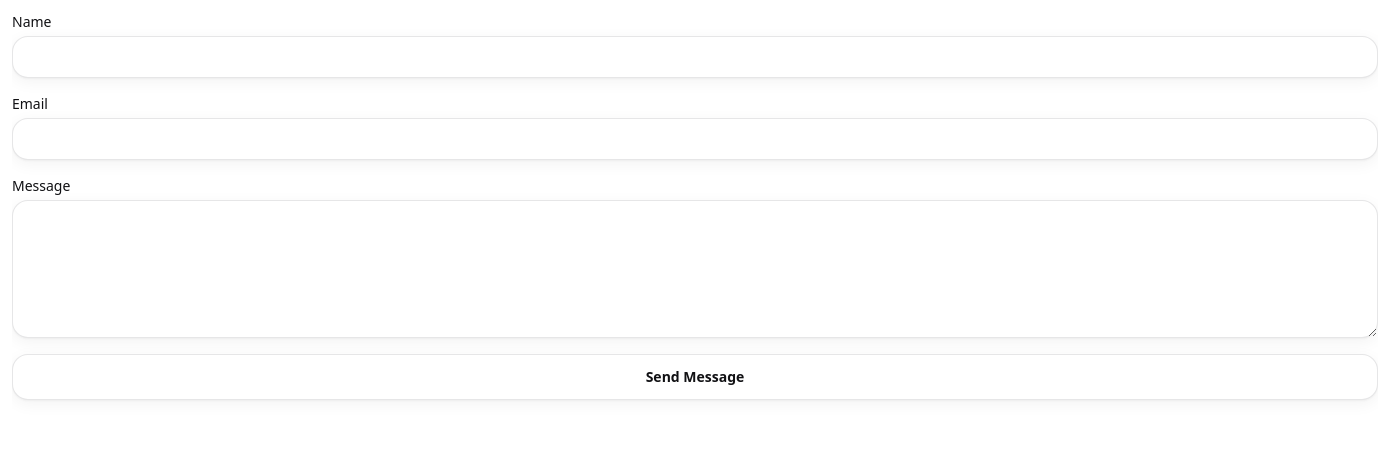
it: ContactForm › shows an error message when submission fails
The image size is (1390, 452).
In the field labelled "Name": (695, 57) [12,36,1378,78], type "Jane"
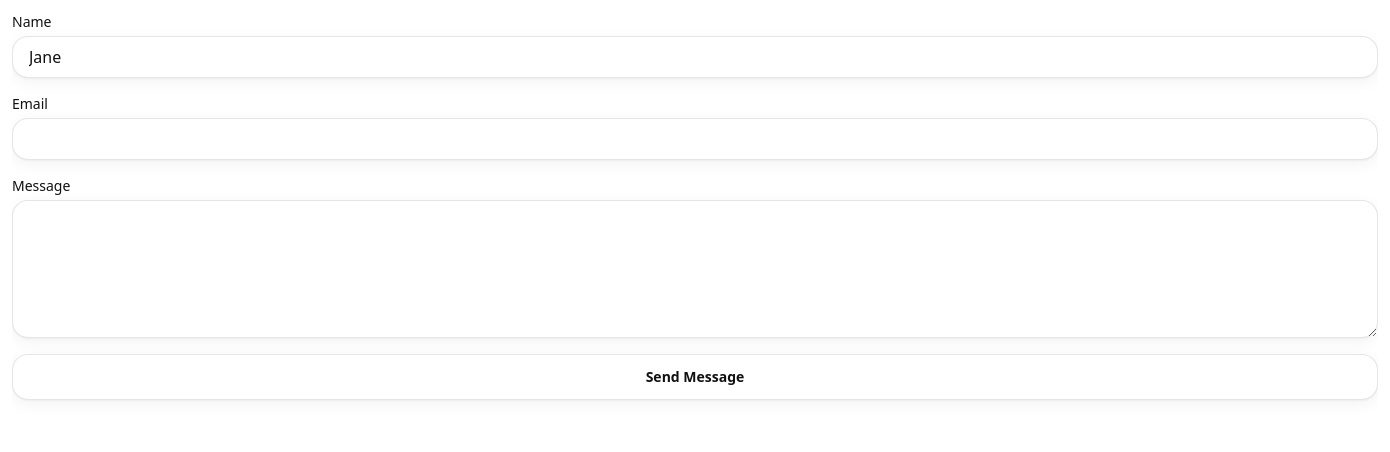
In the field labelled "Email": (695, 139) [12,118,1378,160], type "jane@example.com"
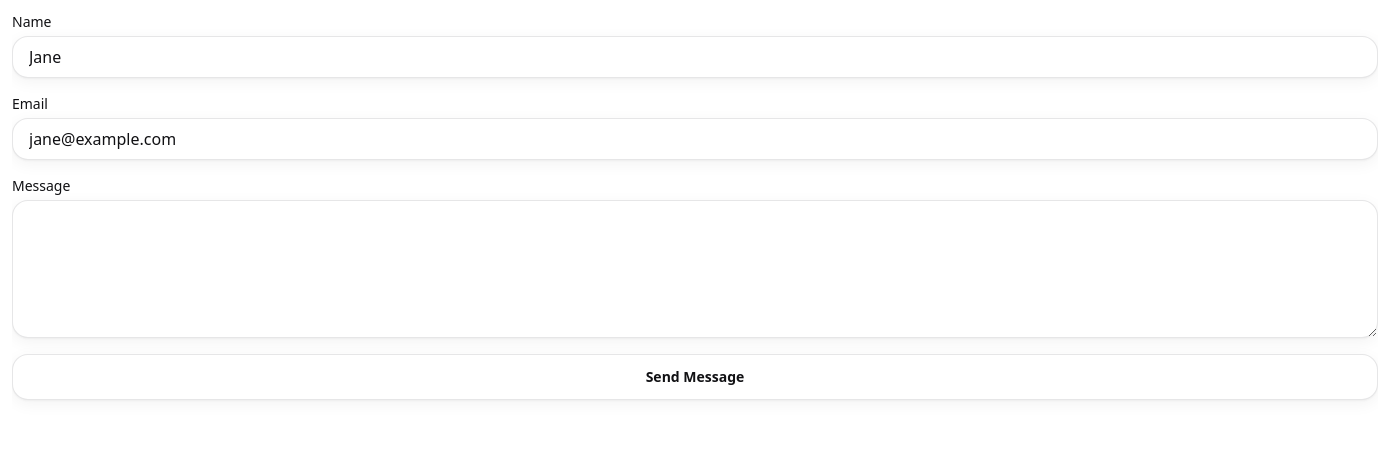
In the text box labelled "Message": (695, 269) [12,200,1378,338], type "Hello there"
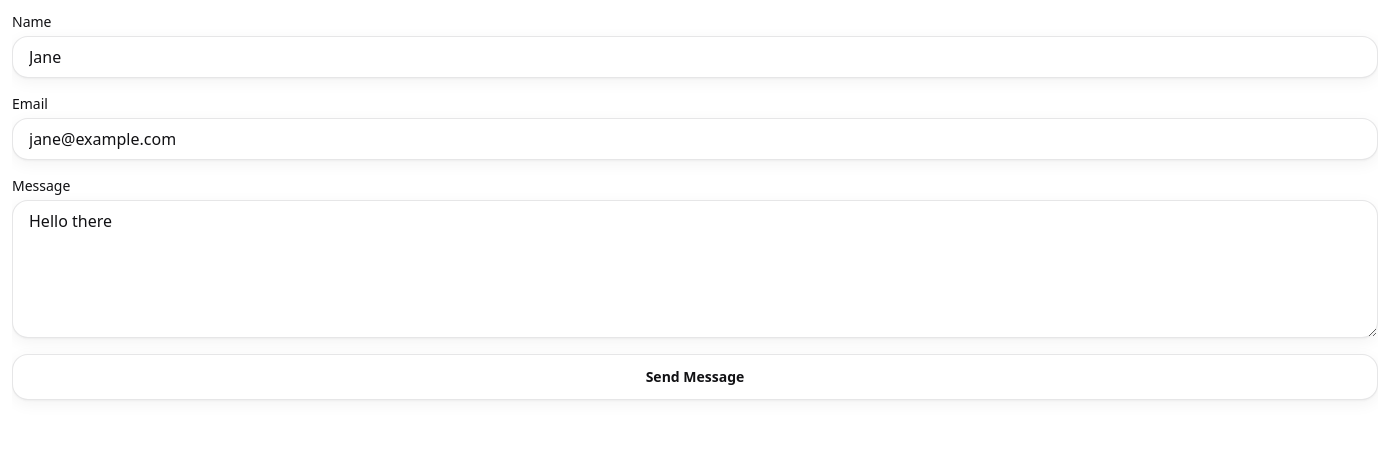
Click the button "Send Message": (695, 377) [12,354,1378,400]
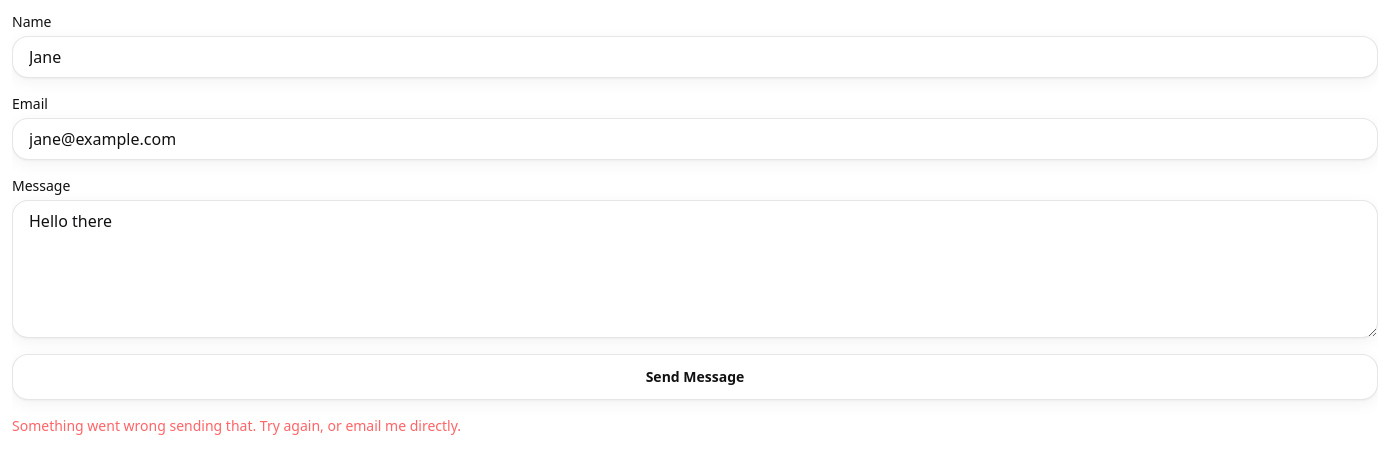
expect the message shows "Something went wrong": met, box [12,416,461,435]
